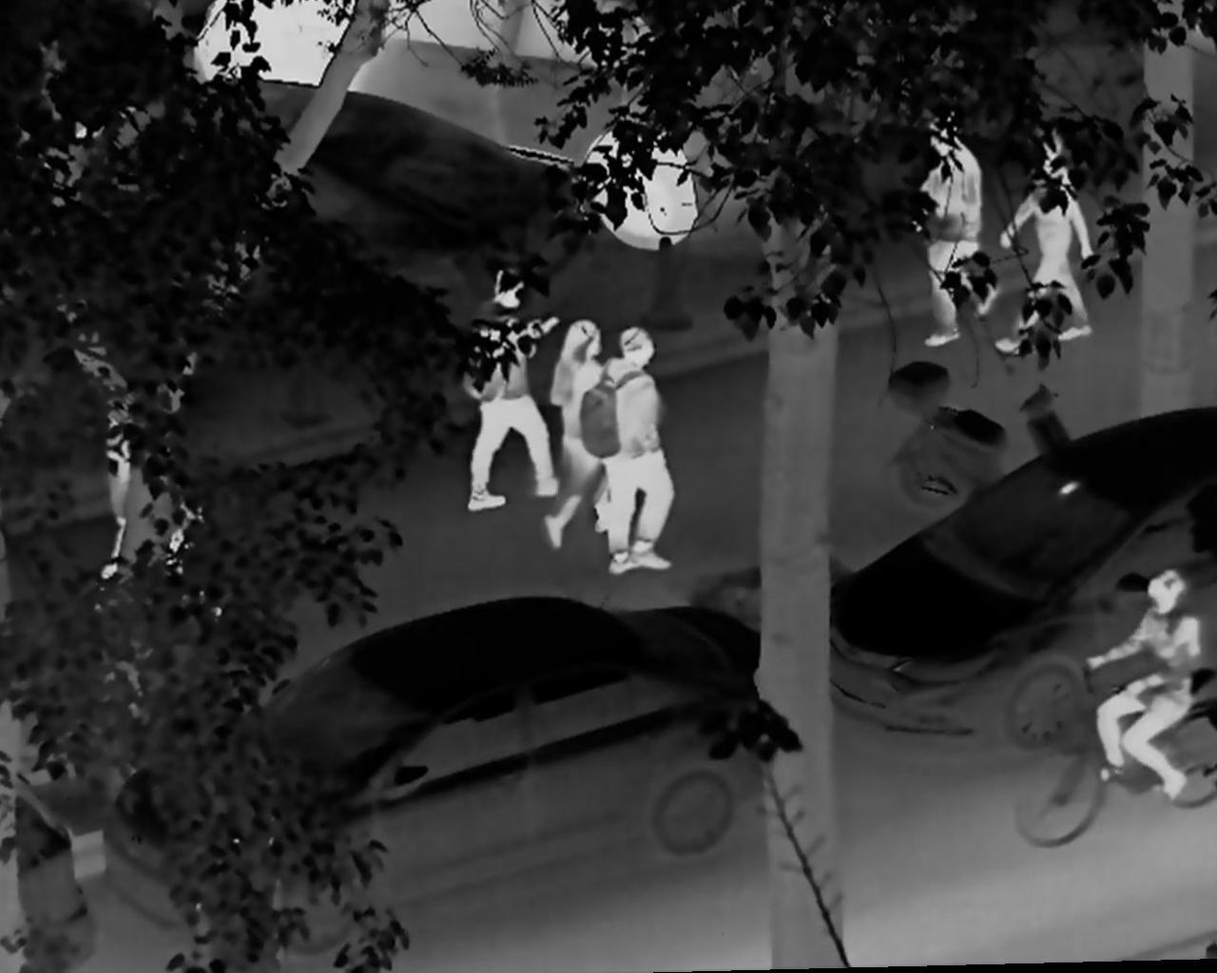person: (96, 373, 223, 621), (1077, 562, 1200, 805), (454, 263, 560, 514), (995, 125, 1099, 356), (907, 114, 997, 349), (543, 320, 629, 544), (601, 323, 675, 581)
